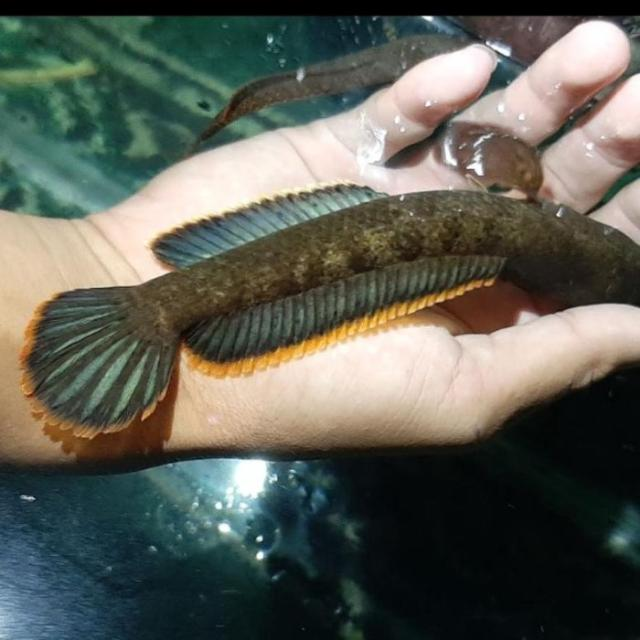Sirip Anal: (148, 178, 392, 272)
Sirip Ekor: (14, 276, 180, 450)
Sirip Punggung: (182, 245, 514, 389)
